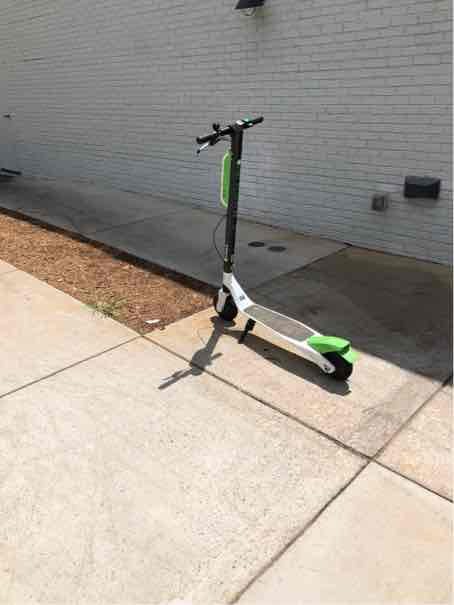scooter: (175, 107, 377, 386)
